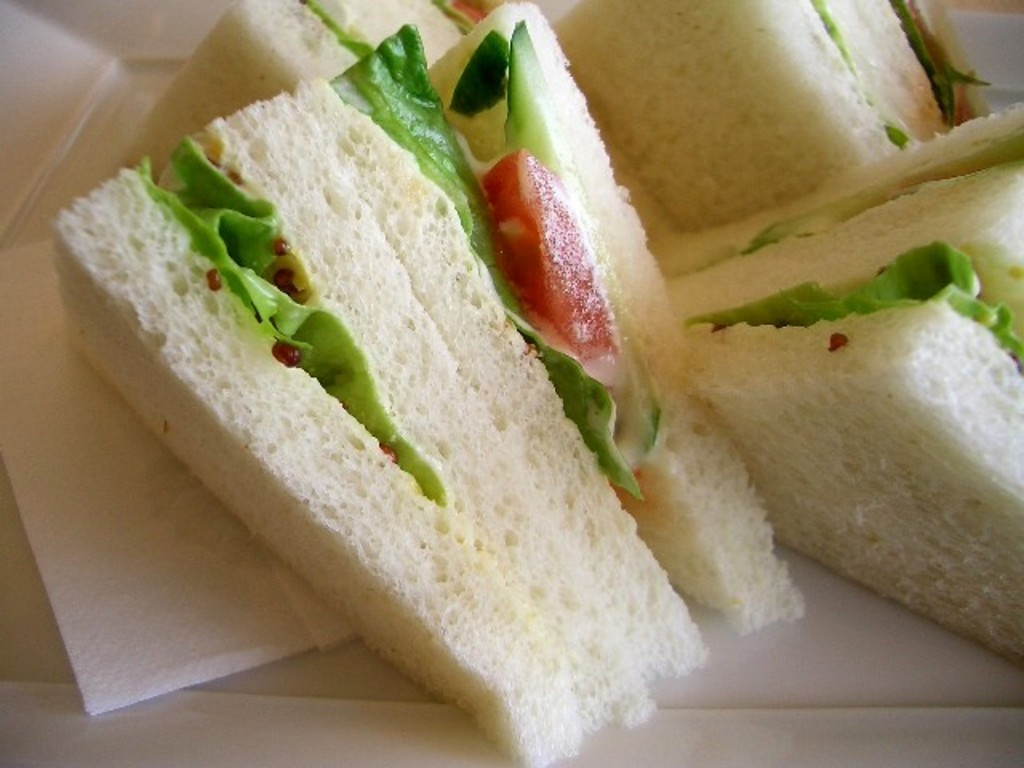sandwich: (50, 0, 1022, 766)
